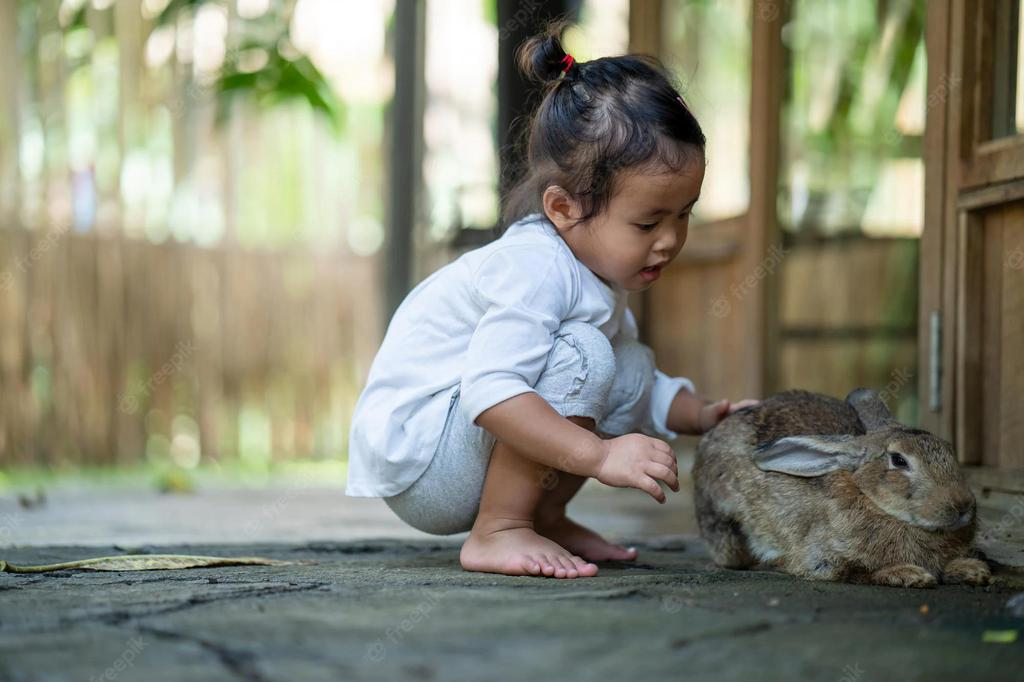child: (328, 34, 737, 603)
